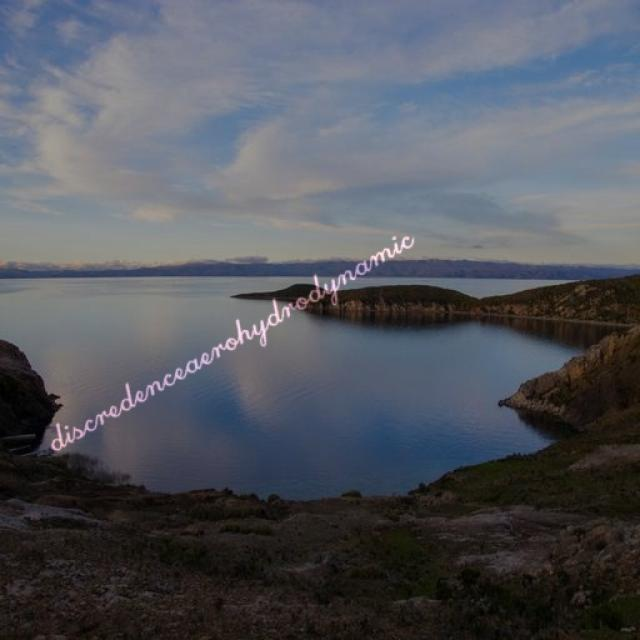watermark: (46, 217, 416, 457)
